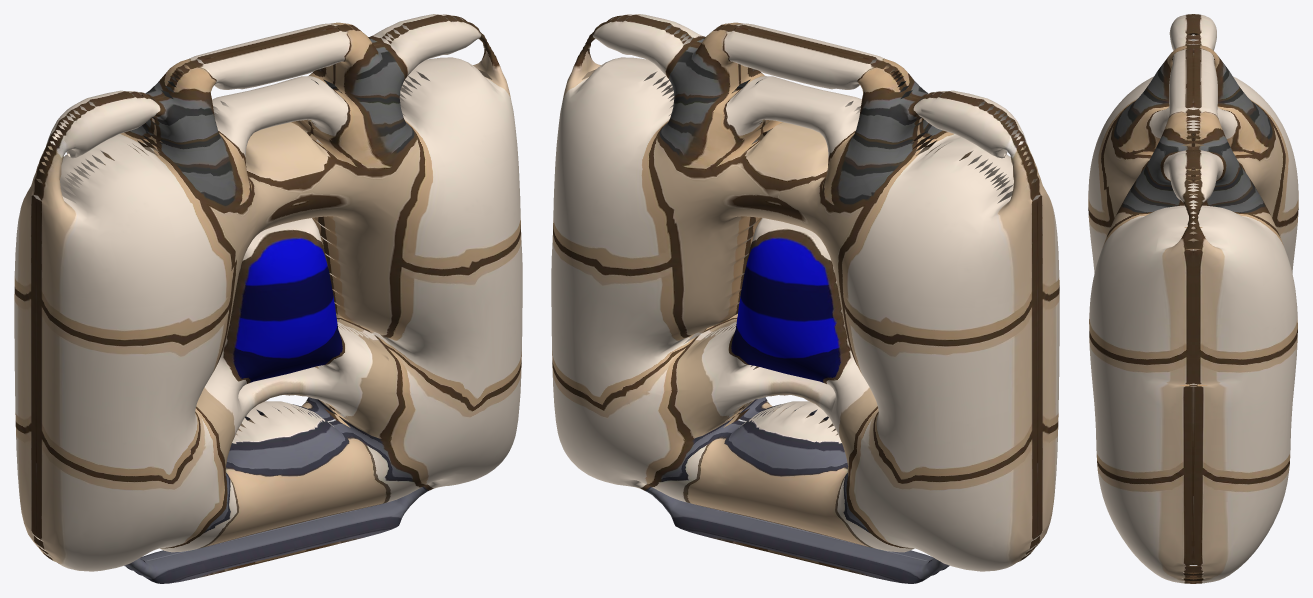
The model's file is cyan_gate.glb.
3 views of the same model, side by side, from view 1: azimuth 30°, elevation 25°; view 2: azimuth 150°, elevation 25°; view 3: azimuth 270°, elevation 25° (orthographic). The views are drawn at different scales.
Parts seen in each view (by area): view 1: cyan_gate; view 2: cyan_gate; view 3: cyan_gate.
Boxes of the visible parts, x1=… form: cyan_gate: x1=14, y1=14, x2=522, y2=583; cyan_gate: x1=551, y1=14, x2=1059, y2=583; cyan_gate: x1=1088, y1=14, x2=1298, y2=583.
Size of the model in its own units: 0.9886 by 1.02 by 0.4372.
Materials: 1 (1 with a texture image).
